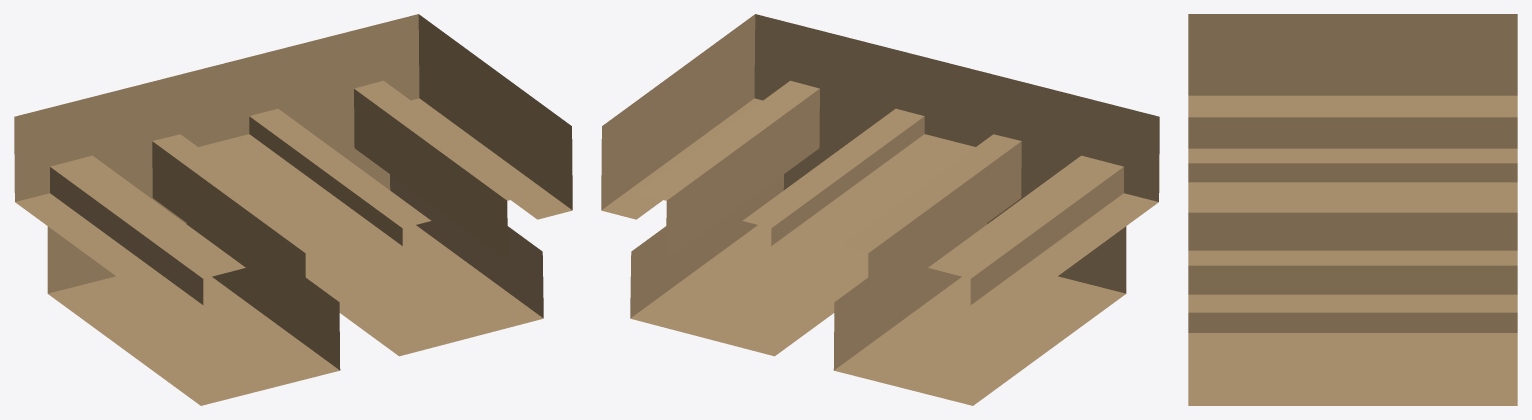
3 renders of one model, left to right at view 1: azimuth 30°, elevation 25°; view 2: azimuth 150°, elevation 25°; view 3: azimuth 270°, elevation 25°, orthographic. The views are drawn at different scales.
Visible parts, largest first — view 1: 0_3_2_0_2_0_2_3_0; view 2: 0_3_2_0_2_0_2_3_0; view 3: 0_3_2_0_2_0_2_3_0.
Boxes of the visible parts, <box> form: 0_3_2_0_2_0_2_3_0: <box>14,14,572,405</box>; 0_3_2_0_2_0_2_3_0: <box>601,14,1159,405</box>; 0_3_2_0_2_0_2_3_0: <box>1188,14,1517,405</box>.
Bounding box in the file's own units: 41.2 × 18.38 × 27.
